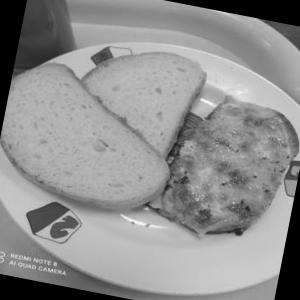bread: (0, 7, 228, 225)
cheese_sandwich: (141, 65, 300, 256)
